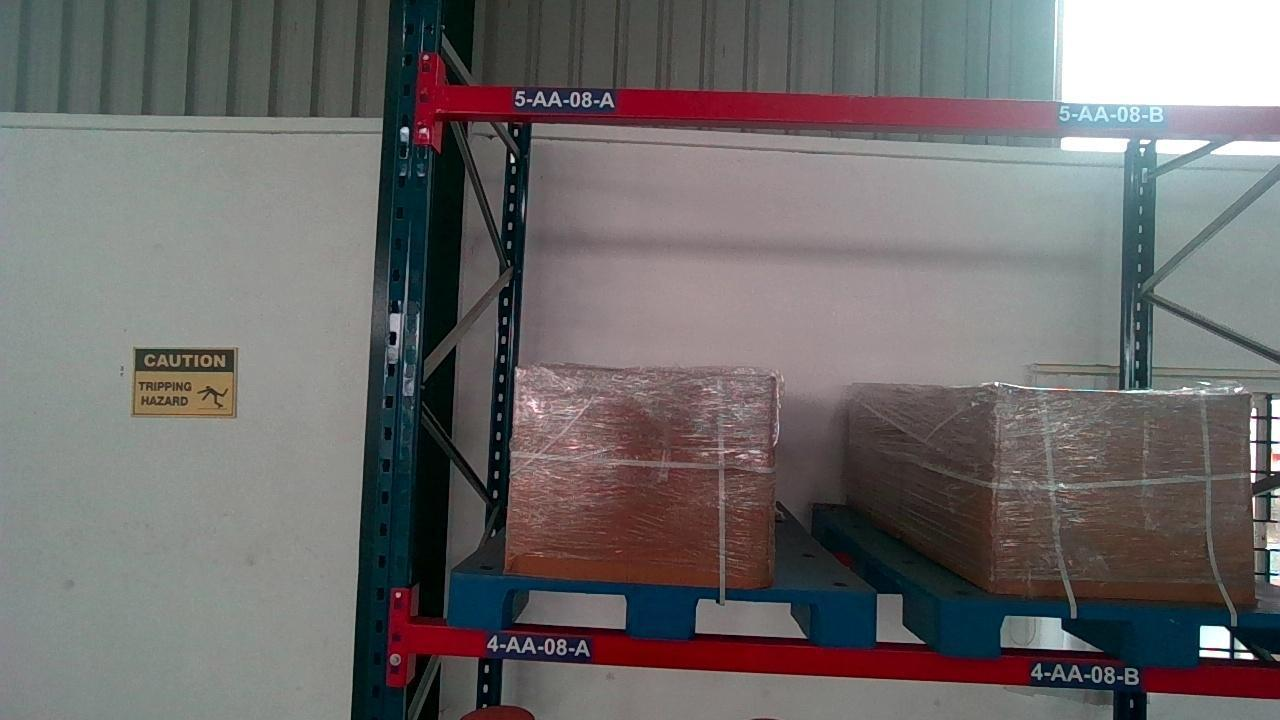h_rack: (417, 623, 1280, 700), (436, 86, 1280, 132)
small_pallet: (444, 577, 882, 643), (952, 603, 1279, 663)
